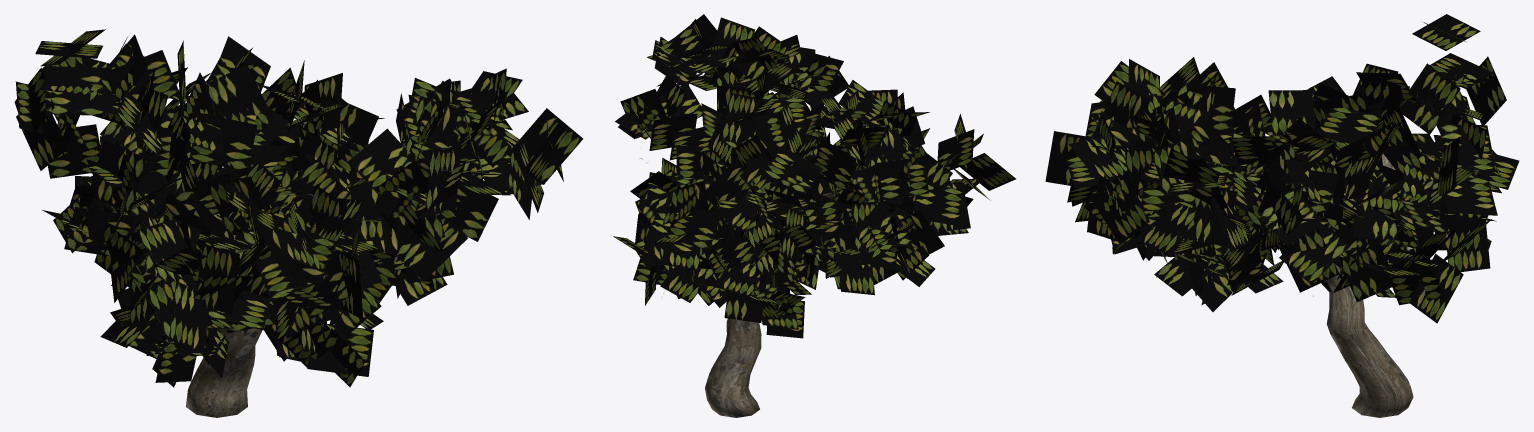
The model's file is tree-asymmetric-05-lod0.glb.
3 views of the same model, side by side, from view 1: azimuth 30°, elevation 25°; view 2: azimuth 150°, elevation 25°; view 3: azimuth 270°, elevation 25° (orthographic). The views are drawn at different scales.
Visible parts, largest first — view 1: tree-asymmetric-05_MATERIAL_BATCH; view 2: tree-asymmetric-05_MATERIAL_BATCH; view 3: tree-asymmetric-05_MATERIAL_BATCH.
Part boxes in pixels (x1,y1,x2,y2): tree-asymmetric-05_MATERIAL_BATCH: (14, 29, 582, 417); tree-asymmetric-05_MATERIAL_BATCH: (613, 14, 1015, 417); tree-asymmetric-05_MATERIAL_BATCH: (1045, 14, 1519, 417).
Bounding box in the file's own units: 12.73 × 11 × 13.52.
3 materials, 3 textured.
